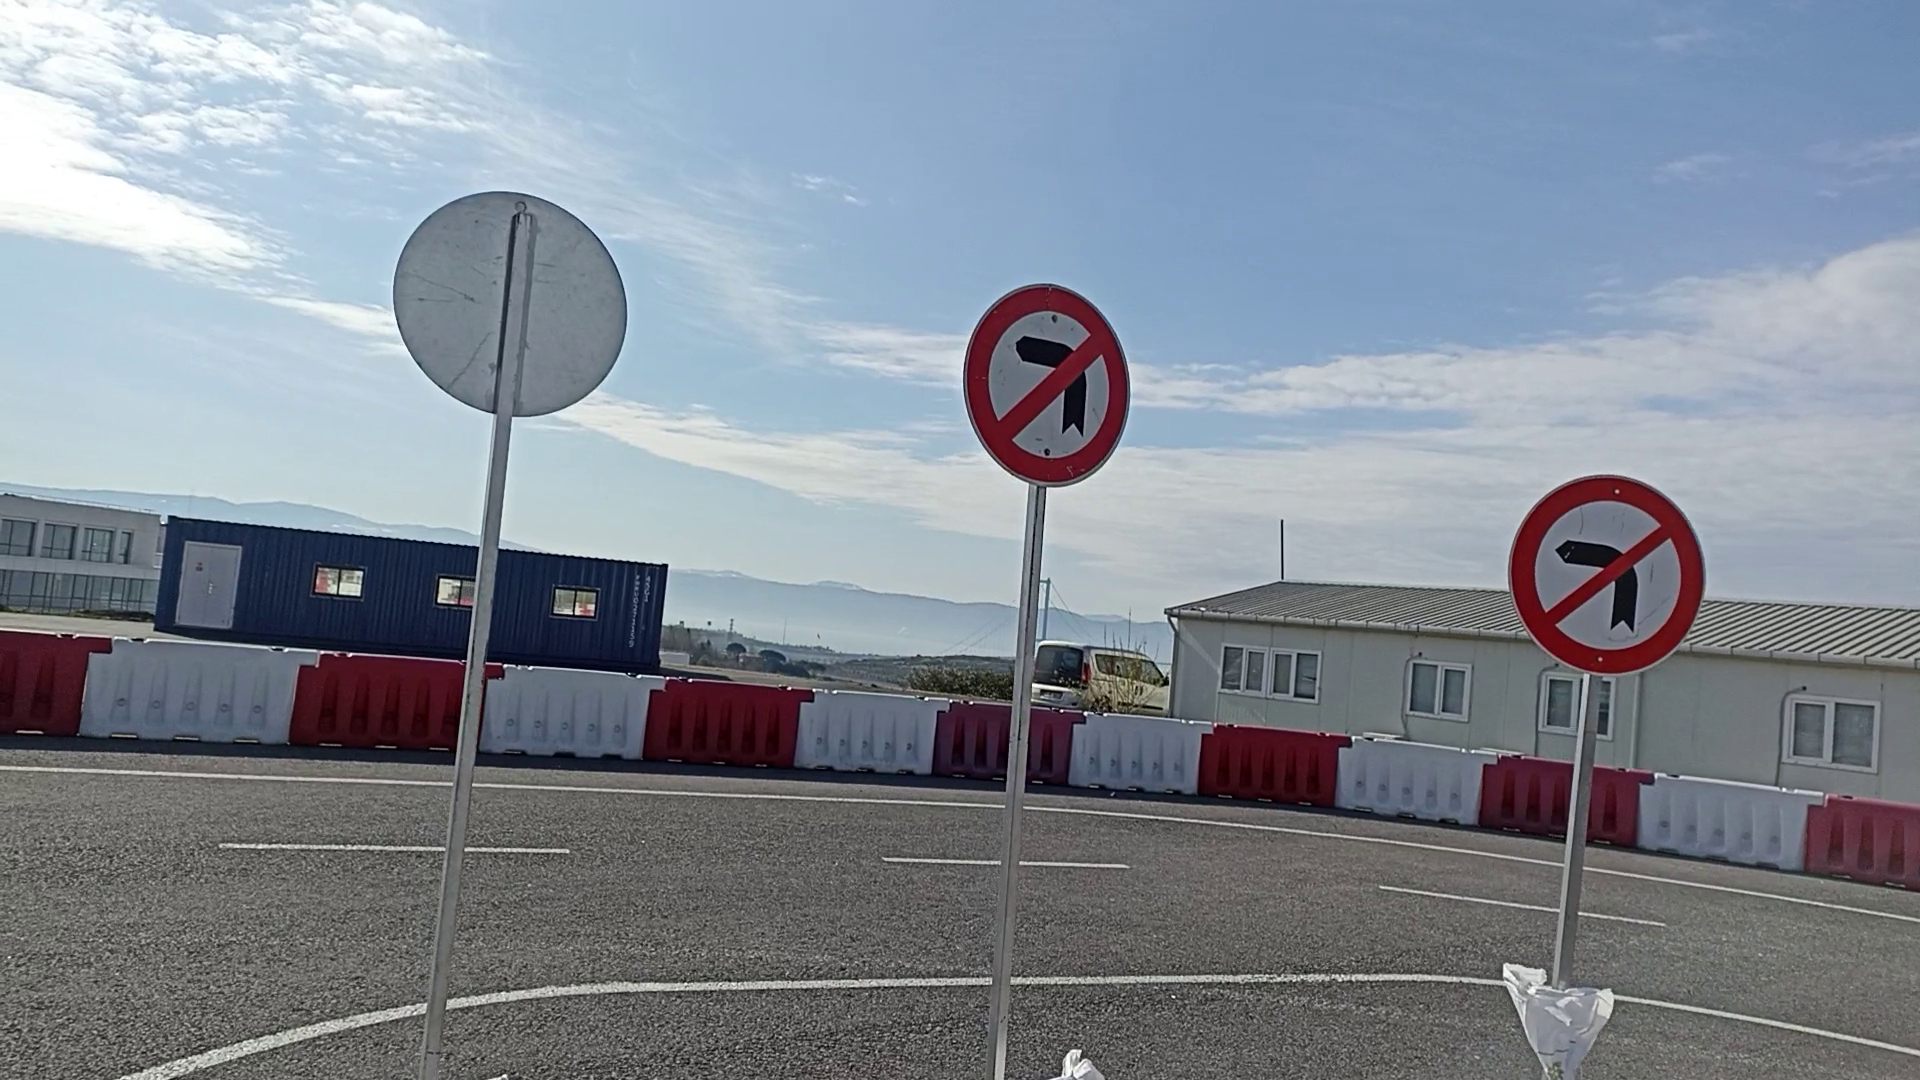noleft: (1506, 472, 1709, 678), (963, 281, 1135, 491)
